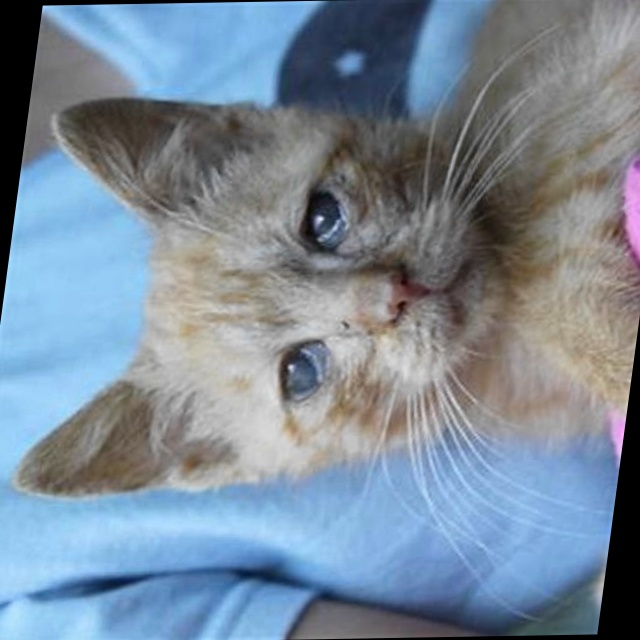eye_infection: (292, 171, 358, 253), (266, 341, 334, 410)
